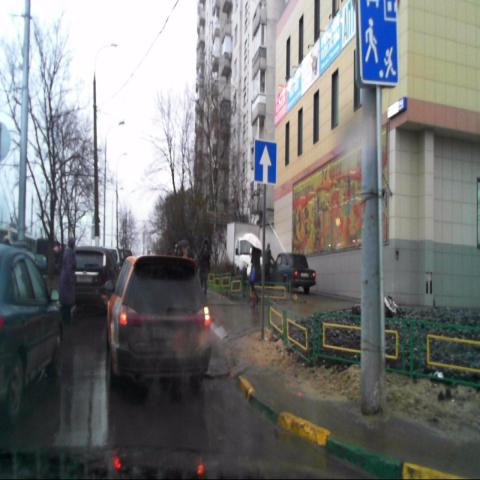5_5: (254, 139, 277, 185)
